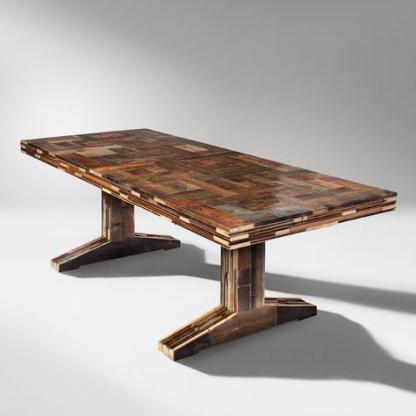table: (19, 126, 398, 360)
